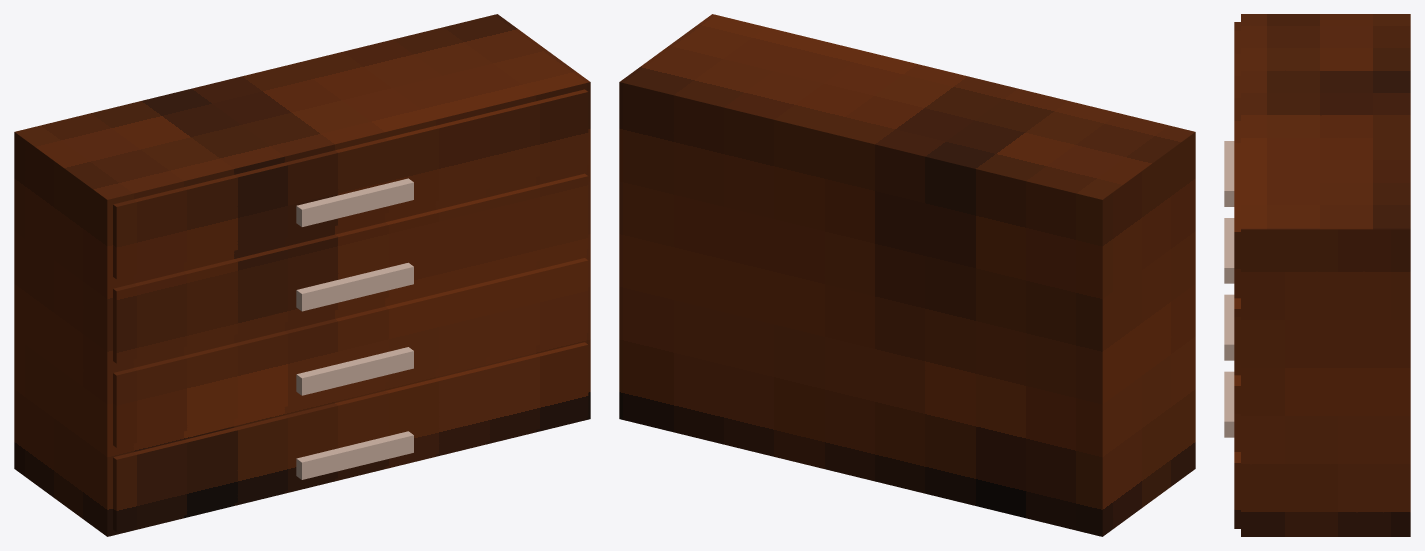
The model's file is Drawer.fbx.
The picture shows the model from 3 angles, left to right: view 1: azimuth 30°, elevation 25°; view 2: azimuth 150°, elevation 25°; view 3: azimuth 270°, elevation 25°; orthographic projection. The views are drawn at different scales.
Visible parts, largest first — view 1: Cube.005; view 2: Cube.005; view 3: Cube.005.
Part boxes in pixels (<box>): Cube.005: <box>14,14,590,536</box>; Cube.005: <box>619,14,1195,536</box>; Cube.005: <box>1224,14,1410,536</box>.
Size of the model in its own units: 600 by 400 by 219.
